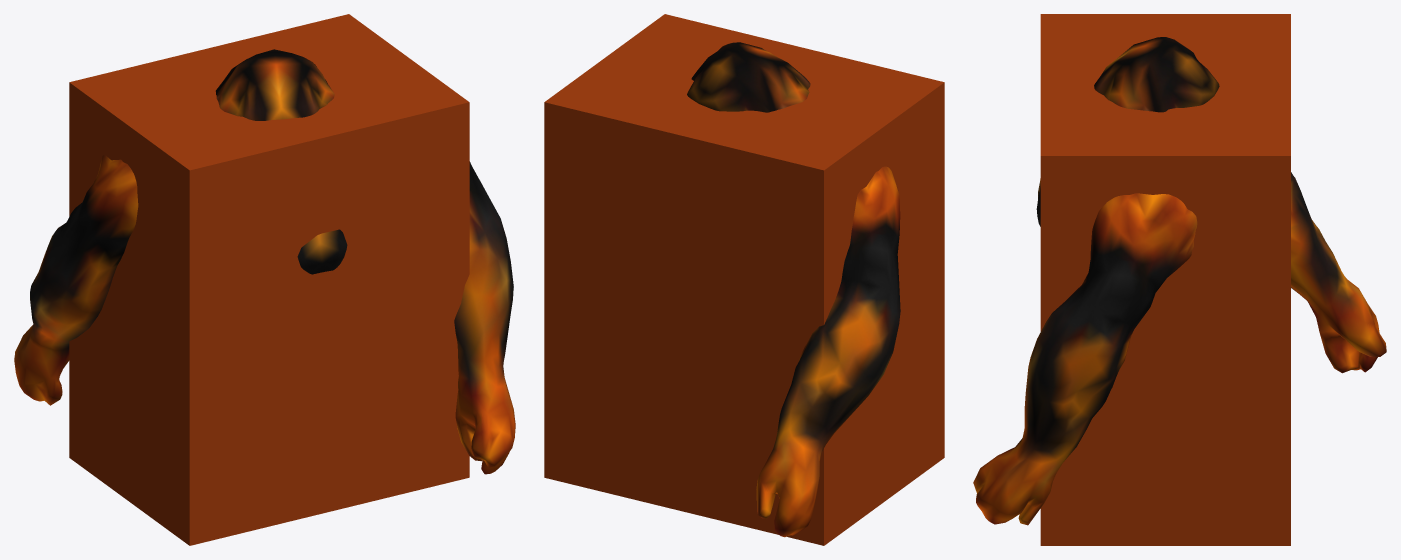
File: MagmaElemental_1_000026.obj
The picture shows the model from 3 angles, left to right: view 1: azimuth 30°, elevation 25°; view 2: azimuth 150°, elevation 25°; view 3: azimuth 270°, elevation 25°; orthographic projection. The views are drawn at different scales.
Parts seen in each view (by area): view 1: Cube, Elemental_FireGolem; view 2: Cube, Elemental_FireGolem; view 3: Cube, Elemental_FireGolem.
Boxes of the visible parts, x1,y1,x2,y2 form: Cube: [69, 14, 469, 545]; Elemental_FireGolem: [14, 49, 515, 474]; Cube: [544, 14, 944, 545]; Elemental_FireGolem: [687, 42, 900, 537]; Cube: [1040, 14, 1290, 545]; Elemental_FireGolem: [973, 37, 1386, 525].
Bounding box in the file's own units: 3.37 × 3.91 × 3.05.
2 materials, 1 textured.
